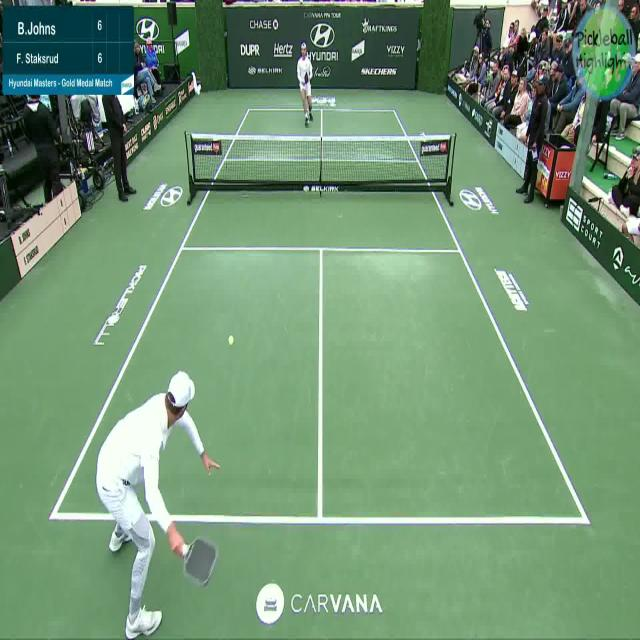ball: (225, 329, 237, 350)
